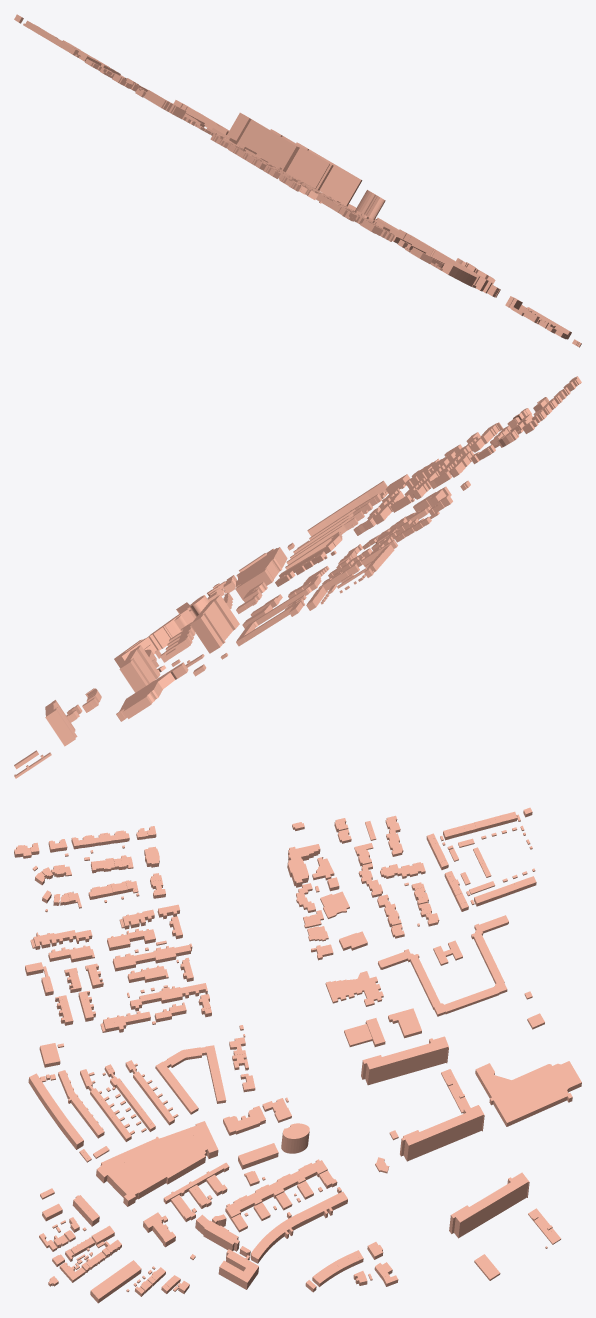
3 views of the same model, one above another, from view 1: azimuth 30°, elevation 25°; view 2: azimuth 150°, elevation 25°; view 3: azimuth 270°, elevation 25° (orthographic). The views are drawn at different scales.
Bounding box in the file's own units: 540 × 383 × 653.
